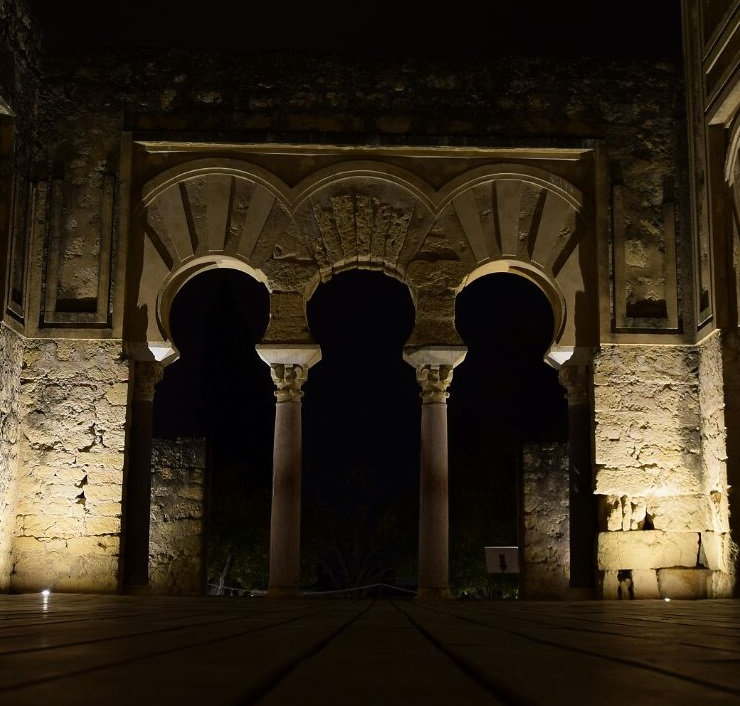arco-herradura: (144, 240, 290, 387), (290, 245, 435, 389), (436, 246, 581, 383)
